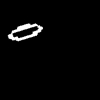chain: (8, 24, 42, 40)
